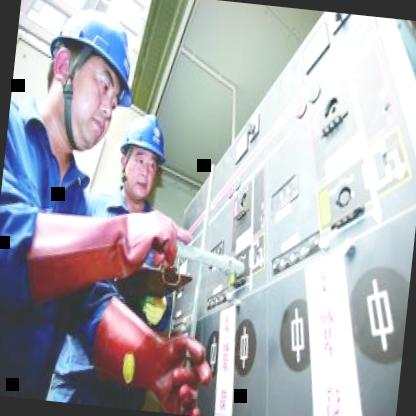helmet: (32, 0, 144, 158), (110, 104, 174, 214)
